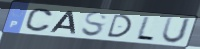A: (48, 10, 77, 36)
C: (23, 8, 54, 33)
D: (105, 14, 133, 39)
L: (134, 16, 156, 42)
S: (80, 11, 109, 38)
U: (160, 16, 194, 45)
